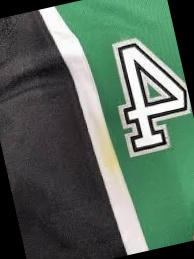mustard: (92, 119, 119, 178)
